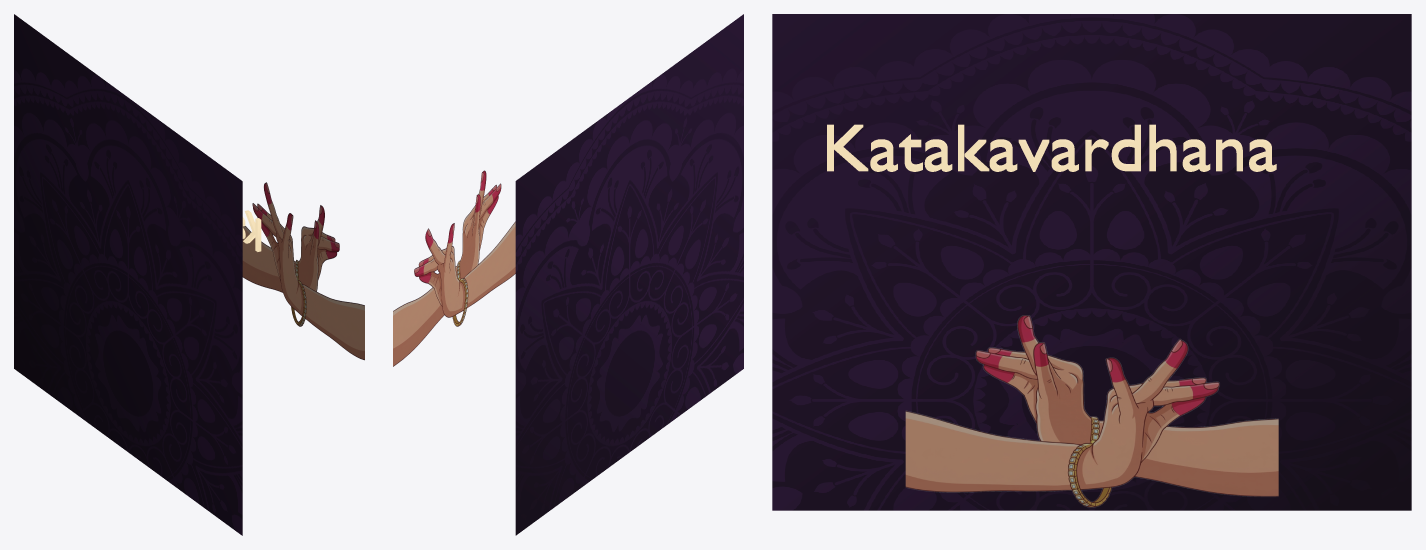
File: Katakavardhana.glb
The picture shows the model from 3 angles, left to right: view 1: azimuth 30°, elevation 25°; view 2: azimuth 150°, elevation 25°; view 3: azimuth 270°, elevation 25°; orthographic projection. The views are drawn at different scales.
Parts seen in each view (by area): view 1: Plane.009, Anjali.009, Text.031; view 2: Plane.009, Anjali.009; view 3: Plane.009, Anjali.009, Text.031.
Boxes of the visible parts, bbox=[...] form: Plane.009: bbox=[14, 14, 242, 535]; Anjali.009: bbox=[242, 182, 364, 360]; Text.031: bbox=[242, 210, 261, 251]; Plane.009: bbox=[515, 14, 743, 535]; Anjali.009: bbox=[393, 170, 515, 366]; Plane.009: bbox=[772, 14, 1411, 510]; Anjali.009: bbox=[905, 315, 1278, 507]; Text.031: bbox=[827, 124, 1276, 171].
Bounding box in the file's own units: 1.53 × 3.05 × 3.56.
3 materials, 2 textured.
